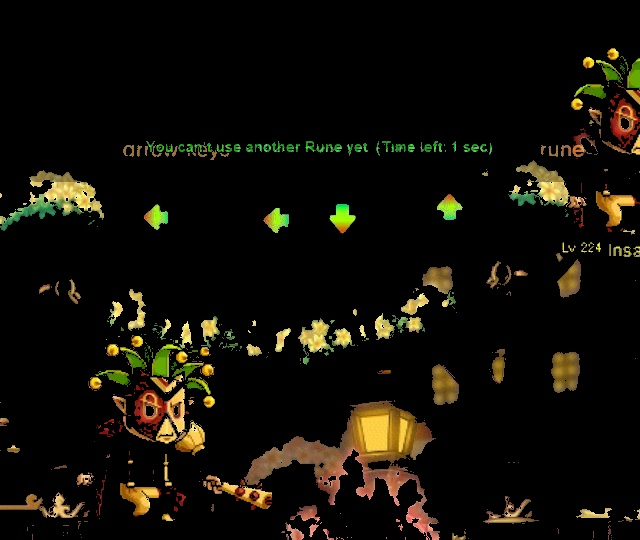down: (321, 196, 367, 241)
left: (253, 200, 298, 244), (136, 199, 181, 236)
up: (426, 188, 467, 226)
